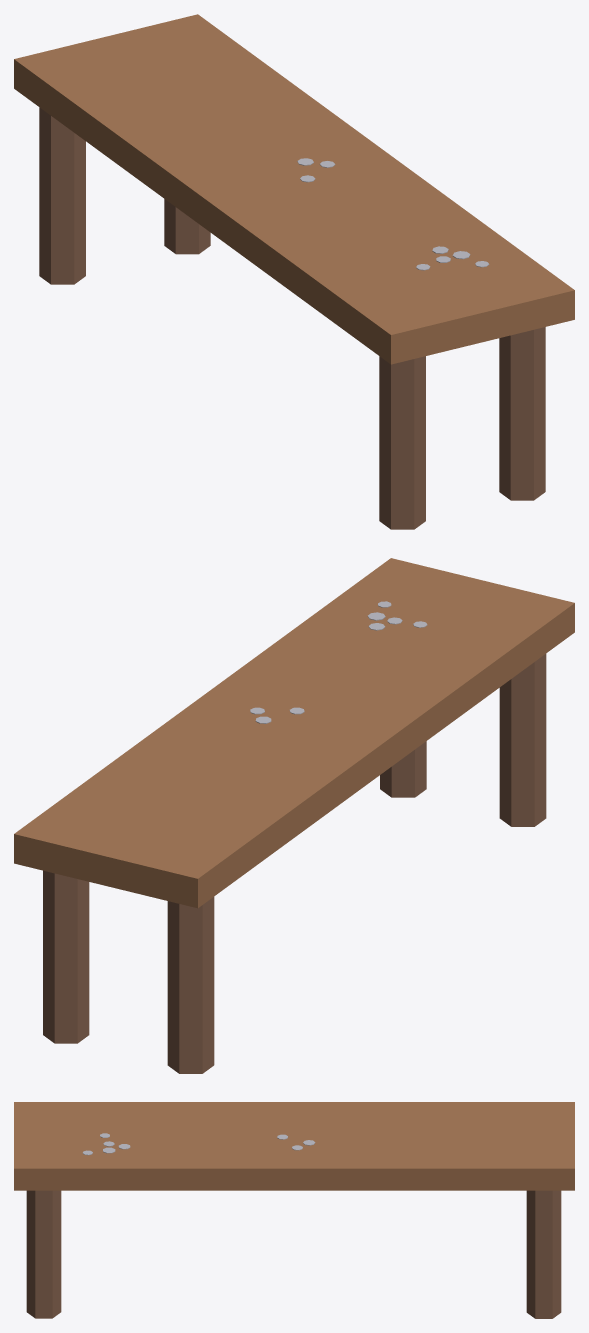
The model's file is TableCoins.fbx.
3 views of the same model, one above another, from view 1: azimuth 30°, elevation 25°; view 2: azimuth 150°, elevation 25°; view 3: azimuth 270°, elevation 25° (orthographic). The views are drawn at different scales.
Parts seen in each view (by area): view 1: Cube.059, Cylinder.126, Cylinder.123, Cylinder.125, Cylinder.124; view 2: Cube.059, Cylinder.125, Cylinder.124, Cylinder.126, Cylinder.123; view 3: Cube.059, Cylinder.124, Cylinder.123.
Part boxes in pixels (bbox=[...]): Cube.059: bbox=[14, 14, 574, 364]; Cylinder.126: bbox=[379, 356, 425, 529]; Cylinder.123: bbox=[499, 327, 545, 500]; Cylinder.125: bbox=[39, 107, 85, 284]; Cylinder.124: bbox=[164, 199, 210, 254]; Cube.059: bbox=[14, 558, 574, 908]; Cylinder.125: bbox=[167, 897, 214, 1073]; Cylinder.124: bbox=[43, 870, 89, 1043]; Cylinder.126: bbox=[499, 654, 546, 826]; Cylinder.123: bbox=[380, 741, 426, 797]; Cube.059: bbox=[14, 1102, 574, 1190]; Cylinder.124: bbox=[526, 1190, 561, 1318]; Cylinder.123: bbox=[26, 1190, 61, 1318].
Bounding box in the file's own units: 84.73 × 92.14 × 301.
